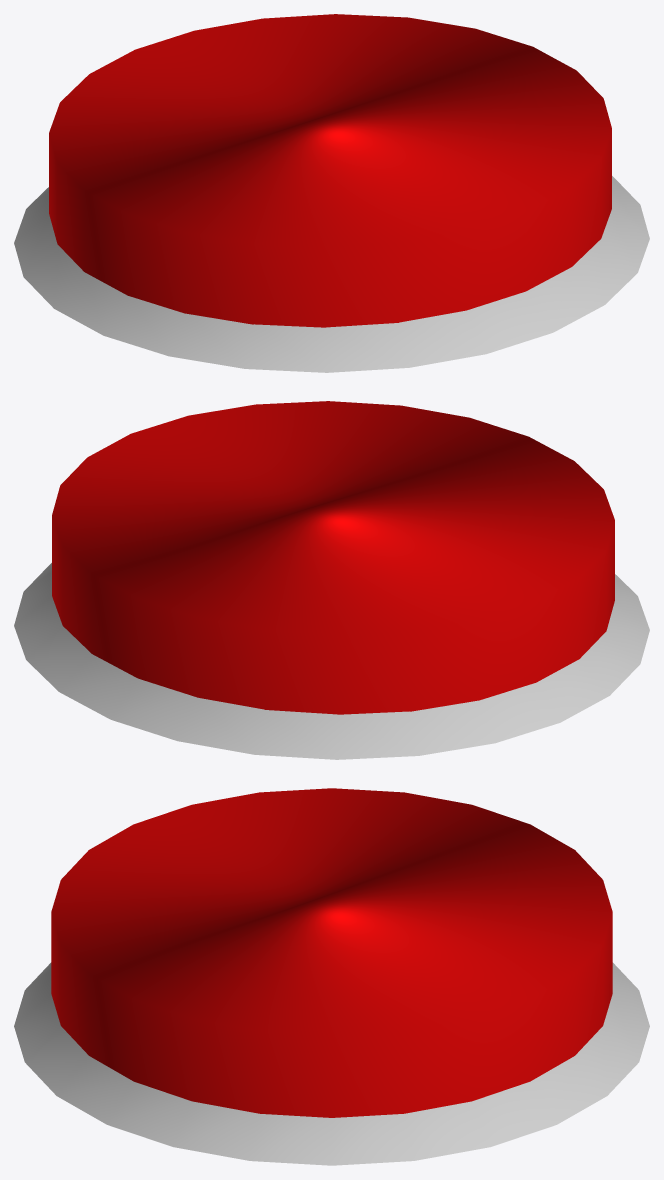
Rendered from baumfassung_01.fbx.
The picture shows the model from 3 angles, top to bottom: view 1: azimuth 30°, elevation 25°; view 2: azimuth 150°, elevation 25°; view 3: azimuth 270°, elevation 25°; orthographic projection. The views are drawn at different scales.
Visible parts, largest first — view 1: colmesh, baumfassung; view 2: colmesh, baumfassung; view 3: colmesh, baumfassung.
Part boxes in pixels (x1,y1,x2,y2): colmesh: [49, 14, 611, 327]; baumfassung: [14, 176, 649, 372]; colmesh: [52, 401, 614, 714]; baumfassung: [14, 563, 649, 759]; colmesh: [51, 788, 612, 1117]; baumfassung: [14, 962, 649, 1165].
Bounding box in the file's own units: 339 × 64.55 × 327.
